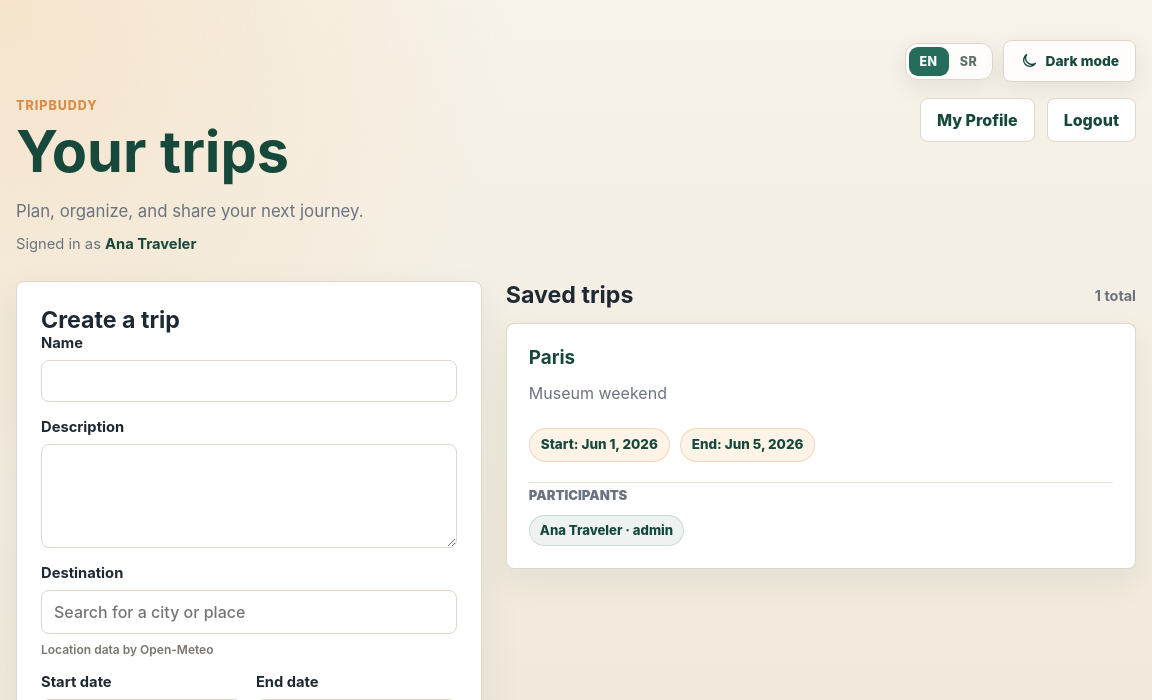
TripBuddy frontend › allows an owner to delete a trip and removes it from the dashboard
Click the button "Paris".
click(821, 446)  # box [506,323,1136,569]
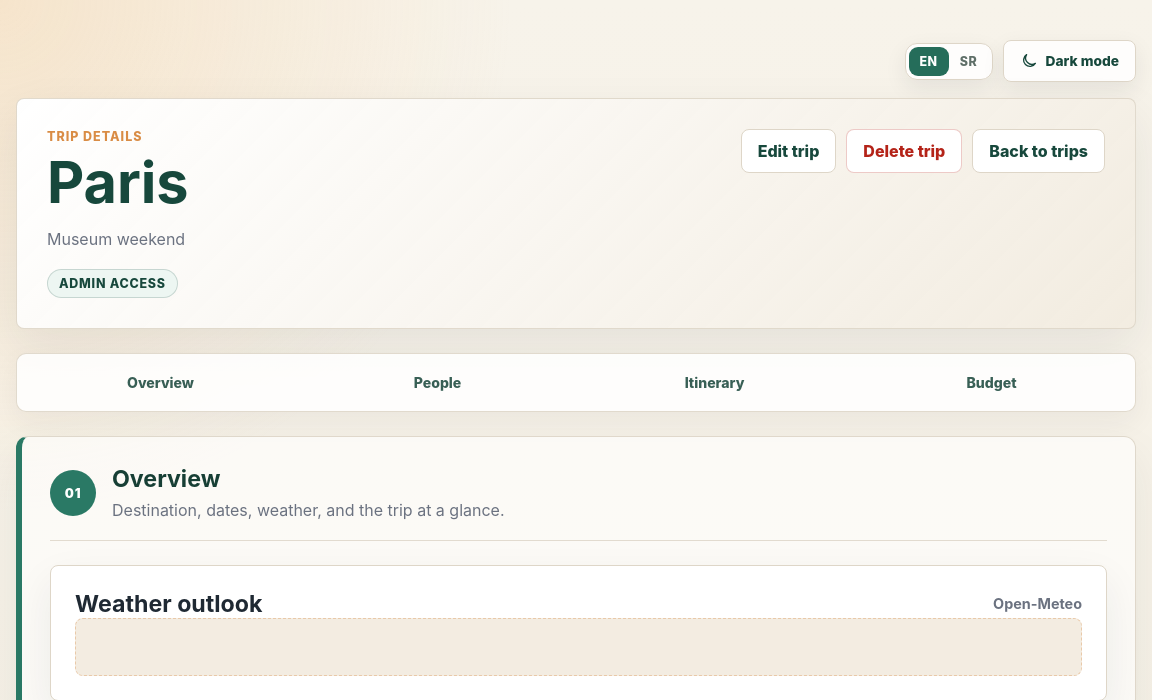
Click the button "Delete trip".
click(904, 151)  # box [846,129,962,173]
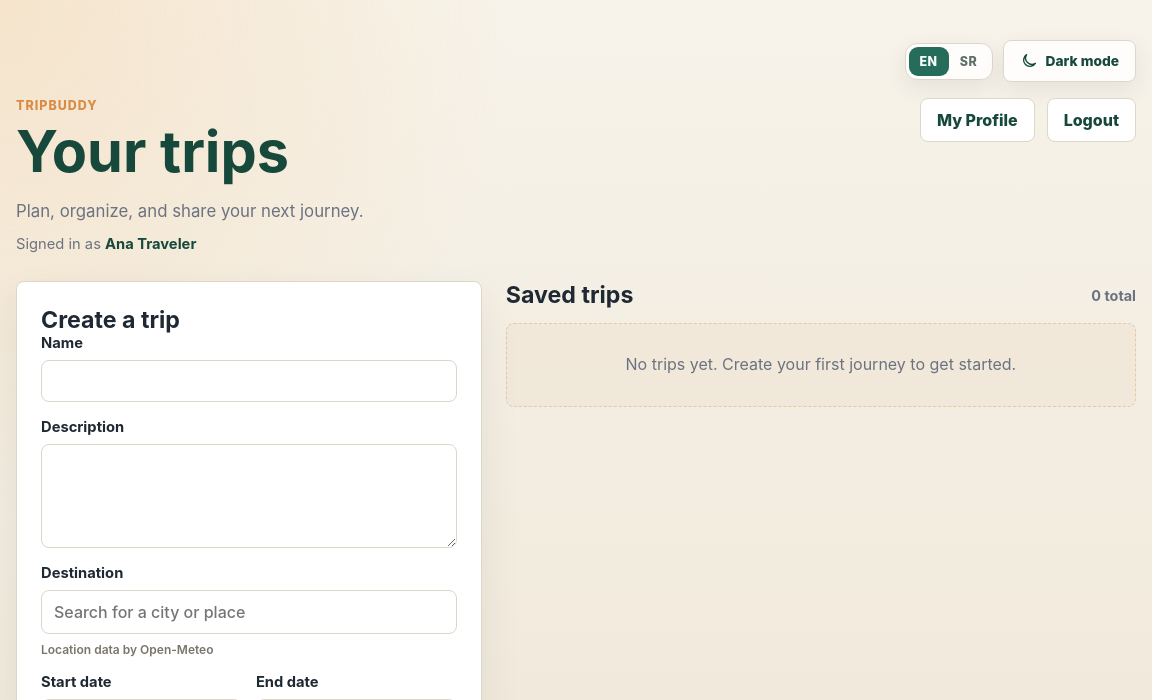
Expected: the heading "Your trips" is shown, [16,116,289,186]
Expected: the heading "Paris" is gone
